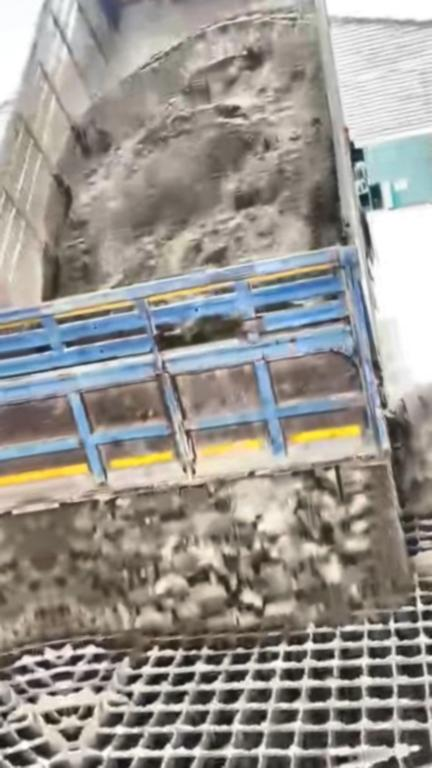sand: (57, 17, 344, 294), (41, 468, 410, 644), (390, 371, 432, 565)
